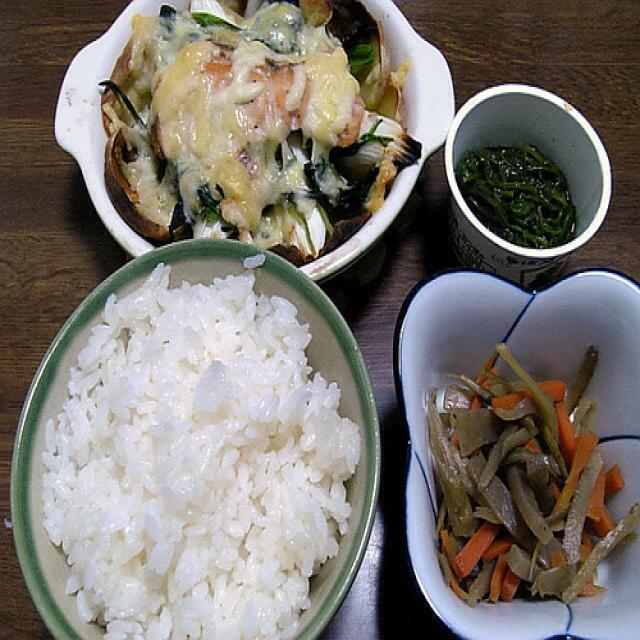米饭主食: (0, 239, 371, 640)
蔬菜料理: (402, 271, 631, 635)
